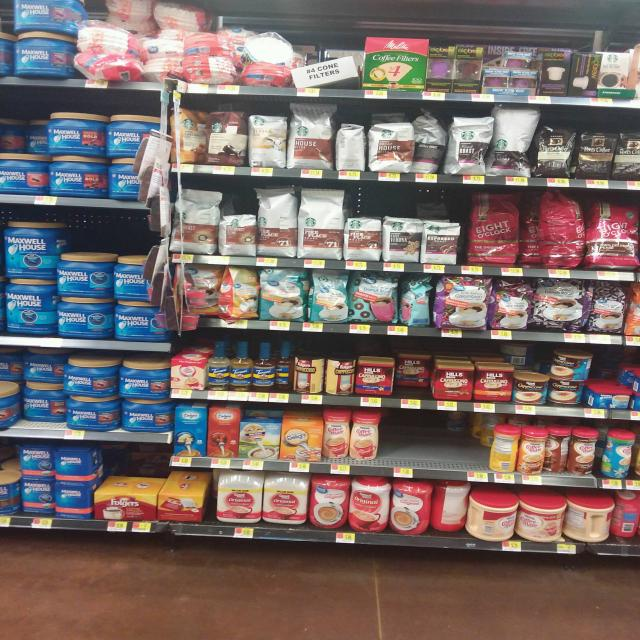empty: (375, 404, 486, 464)
